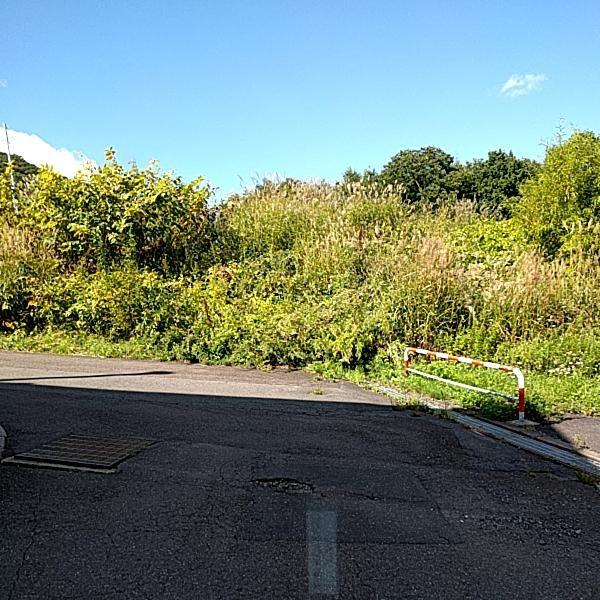pothole: (258, 476, 315, 496)
